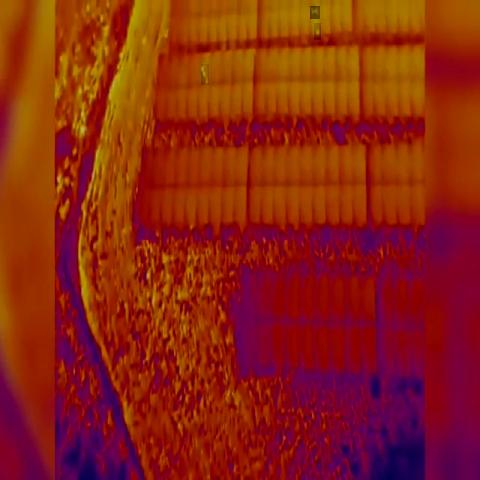fault: (201, 64, 209, 85), (314, 23, 321, 40), (311, 6, 320, 19)
